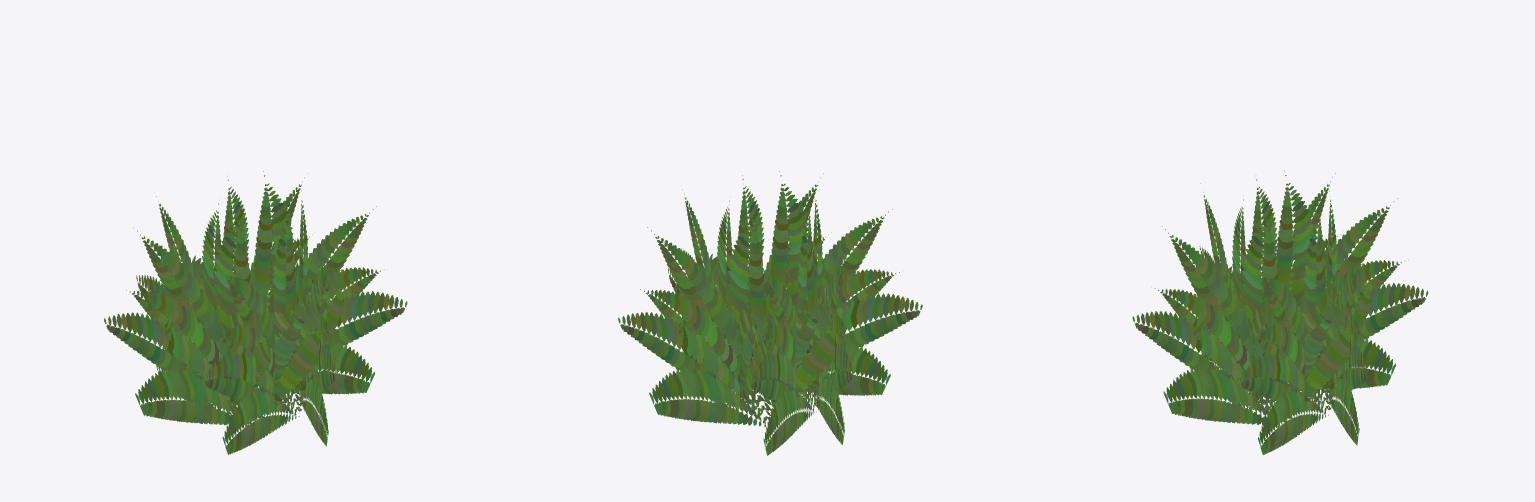
Rendered from Fern_2.gltf.
The picture shows the model from 3 angles, left to right: view 1: azimuth 30°, elevation 25°; view 2: azimuth 150°, elevation 25°; view 3: azimuth 270°, elevation 25°; orthographic projection.
Visible parts, largest first — view 1: Fern_2; view 2: Fern_2; view 3: Fern_2.
Boxes of the visible parts, <box> form: Fern_2: <box>104,171,407,454</box>; Fern_2: <box>618,171,922,455</box>; Fern_2: <box>1132,170,1428,454</box>.
Size of the model in its own units: 1.53 by 1.61 by 1.71.
1 material, 1 textured.
